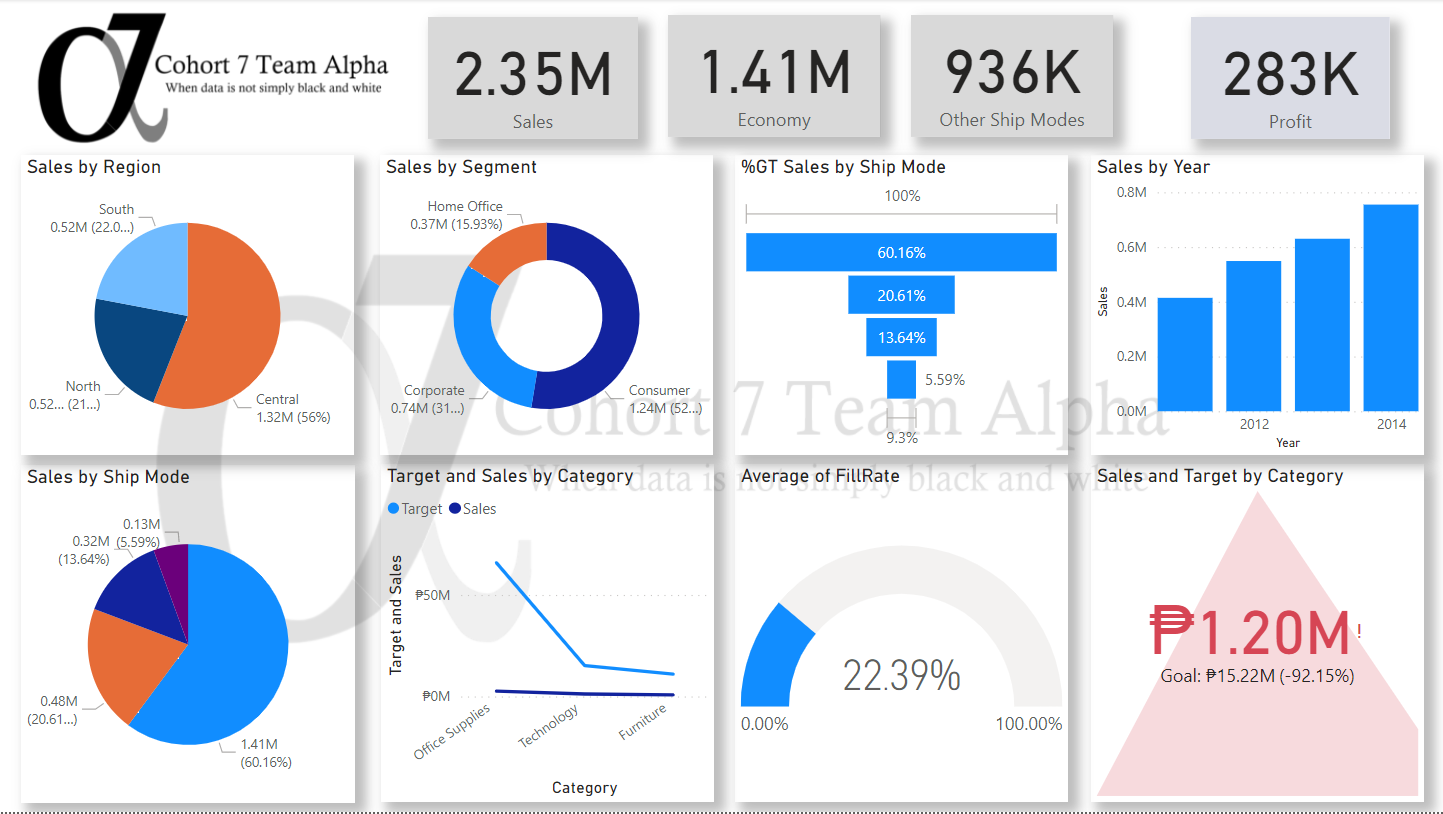

This screenshot's page, from the dashboard's own definition file:
{"tool":"powerbi","page":{"name":"DashBoard","canvas":[1280,720],"ordinal":0},"visuals":[{"type":"card","fields":{"Values":["Other Ship Modes.Other Ship Modes"]},"box":[807.3,14.6,179,108],"z":0},{"type":"card","fields":{"Values":["Sum(SalesOuput.Profit)"]},"box":[1055.3,15.6,176,108],"z":1000},{"type":"card","fields":{"Values":["Other Ship Modes.Economy"]},"box":[592.3,14.6,187.7,108],"z":2000},{"type":"card","fields":{"Values":["Sum(SalesOuput.Sales)"]},"box":[380.3,15.6,185.8,108],"z":3000},{"type":"pieChart","fields":{"Y":["Sum(SalesOuput.Sales)"],"Series":["SalesOuput.Region"]},"box":[19.5,138.1,294.7,265.5],"z":4000},{"type":"donutChart","fields":{"Y":["Sum(SalesOuput.Sales)"],"Category":["SalesOuput.Segment"]},"box":[337.5,138.1,294.7,265.5],"z":5000},{"type":"funnel","fields":{"Y":["Sum(SalesOuput.Sales)"],"Category":["SalesOuput.Ship Mode"]},"box":[651.7,138.1,294.7,265.5],"z":6000},{"type":"columnChart","fields":{"Y":["Sum(SalesOuput.Sales)"],"Category":["SalesOuput.Order Date.Variation.Date Hierarchy.Year"]},"box":[966.8,138.1,294.7,265.5],"z":7000},{"type":"image","box":[28.2,0,324.9,140.1],"z":8000},{"type":"pieChart","fields":{"Category":["SalesOuput.Ship Mode"],"Y":["Sum(SalesOuput.Sales)"]},"box":[19.5,412.4,295.7,298.6],"z":9000},{"type":"lineChart","fields":{"Category":["FillRate.Category"],"Y":["Sum(FillRate.Target)","Sum(FillRate.Sales)"]},"box":[338,412,295,299],"z":10000},{"type":"gauge","fields":{"Y":["Avg(FillRate.FillRate)"]},"box":[652,412,295,299],"z":11000},{"type":"kpi","fields":{"Goal":["Sum(FillRate.Target)"],"Indicator":["Sum(FillRate.Sales)"],"TrendLine":["FillRate.Category"]},"box":[967,412,295,299],"z":12000}]}

Visuals, with their boxes in screenshot pixels (x1, y1, x2, y2), scaled from the page's 1280x720 canvas onto the 1443x814 screenshot:
card - Other Ship Modes.Other Ship Modes: {"x1": 910, "y1": 17, "x2": 1112, "y2": 139}
card - Sum(SalesOuput.Profit): {"x1": 1190, "y1": 18, "x2": 1388, "y2": 140}
card - Other Ship Modes.Economy: {"x1": 668, "y1": 17, "x2": 879, "y2": 139}
card - Sum(SalesOuput.Sales): {"x1": 429, "y1": 18, "x2": 638, "y2": 140}
pieChart - Sum(SalesOuput.Sales) x SalesOuput.Region: {"x1": 22, "y1": 156, "x2": 354, "y2": 456}
donutChart - Sum(SalesOuput.Sales) x SalesOuput.Segment: {"x1": 380, "y1": 156, "x2": 713, "y2": 456}
funnel - Sum(SalesOuput.Sales) x SalesOuput.Ship Mode: {"x1": 735, "y1": 156, "x2": 1067, "y2": 456}
columnChart - Sum(SalesOuput.Sales) x SalesOuput.Order Date.Variation.Date Hierarchy.Year: {"x1": 1090, "y1": 156, "x2": 1422, "y2": 456}
image: {"x1": 32, "y1": 0, "x2": 398, "y2": 158}
pieChart - SalesOuput.Ship Mode x Sum(SalesOuput.Sales): {"x1": 22, "y1": 466, "x2": 355, "y2": 804}
lineChart - FillRate.Category x Sum(FillRate.Target): {"x1": 381, "y1": 466, "x2": 714, "y2": 804}
gauge - Avg(FillRate.FillRate): {"x1": 735, "y1": 466, "x2": 1068, "y2": 804}
kpi - Sum(FillRate.Target) x Sum(FillRate.Sales): {"x1": 1090, "y1": 466, "x2": 1423, "y2": 804}
